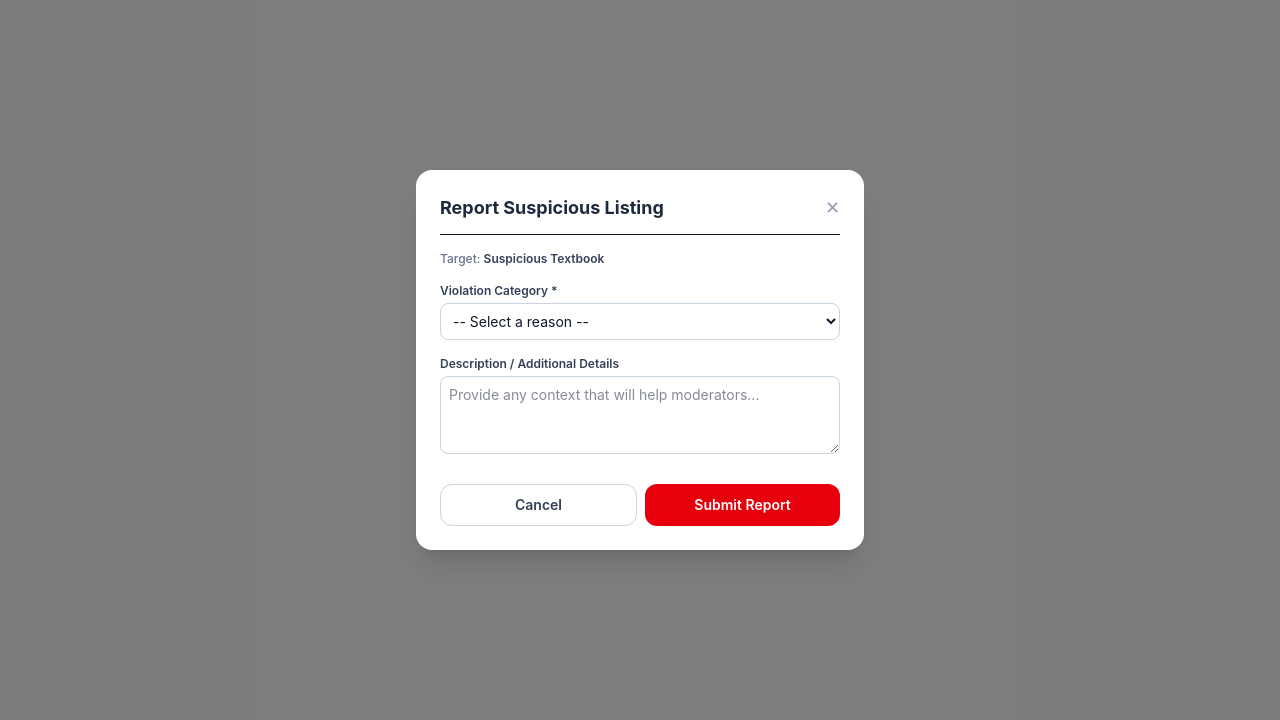
Test case: ReportModal Component (US-11) › shows error banner when submitting without selecting a category
This screenshot has width=1280, height=720.
Click the button "Submit Report" at (742, 505), box [645,484,840,526]
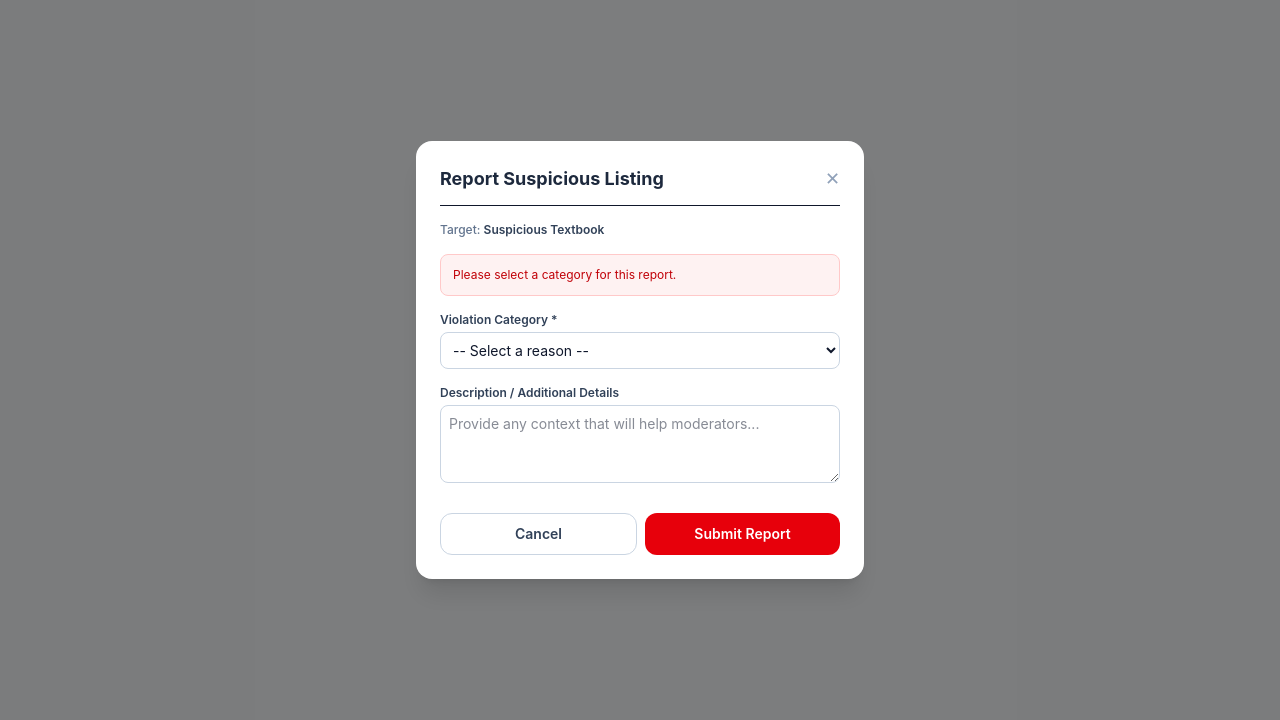
Expected: the text "Please select a category for this report." is shown, [440,254,840,296]
